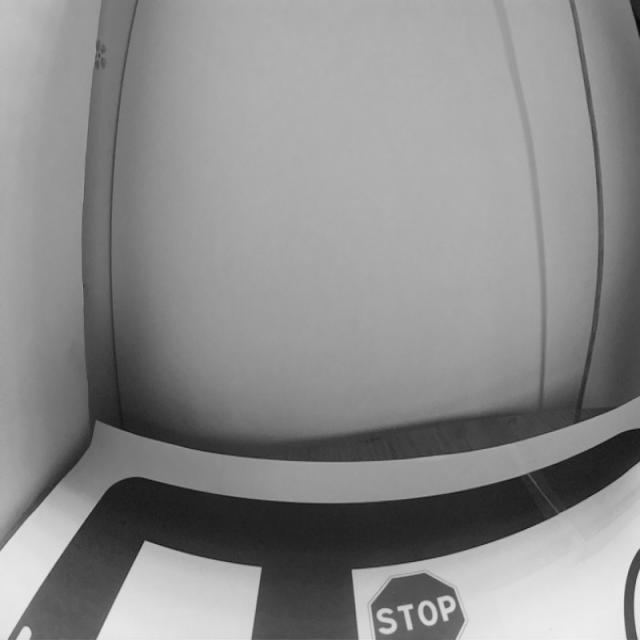stop: (362, 568, 473, 640)
